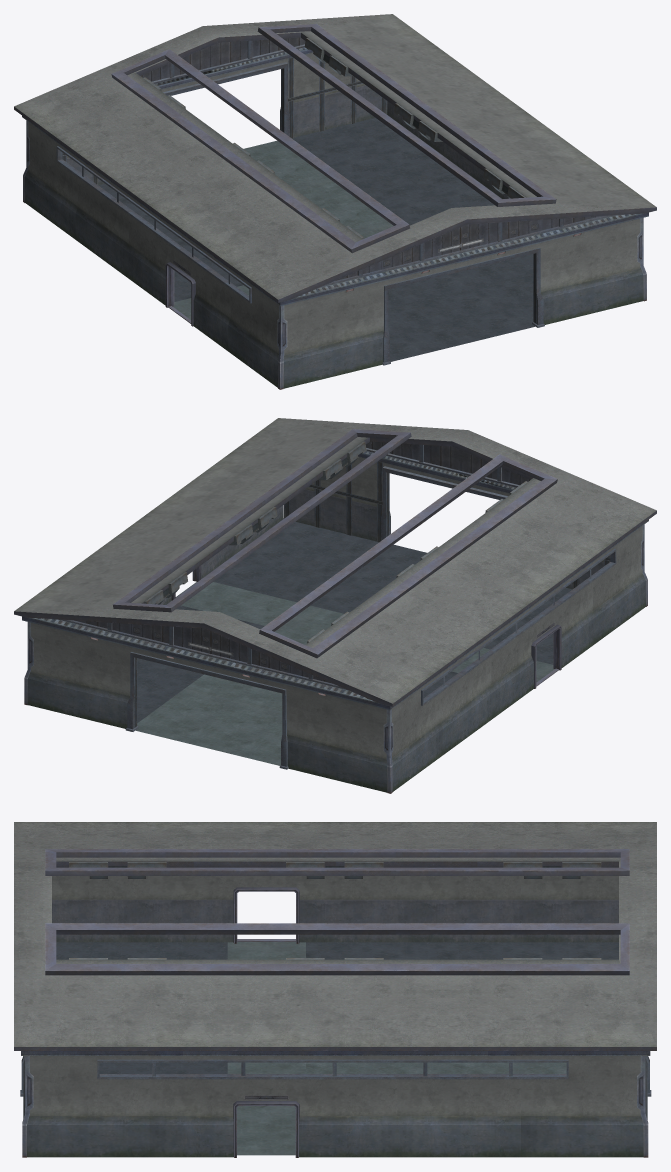
File: BuildingJk_lod1.glb
3 renders of one model, top to bottom at view 1: azimuth 30°, elevation 25°; view 2: azimuth 150°, elevation 25°; view 3: azimuth 270°, elevation 25°, orthographic. The views are drawn at different scales.
Visible parts, largest first — view 1: xiutz_building_jk_lod1_0; view 2: xiutz_building_jk_lod1_0; view 3: xiutz_building_jk_lod1_0.
Boxes of the visible parts, <box> form: xiutz_building_jk_lod1_0: <box>14,14,656,389</box>; xiutz_building_jk_lod1_0: <box>14,418,656,793</box>; xiutz_building_jk_lod1_0: <box>14,822,656,1157</box>.
Size of the model in its own units: 33.41 by 10.88 by 40.35.
Materials: 2 (2 with a texture image).
